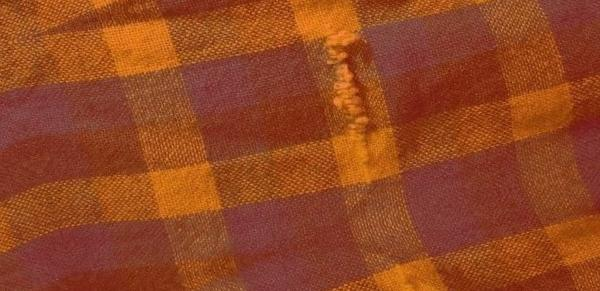knot: (322, 30, 378, 175)
